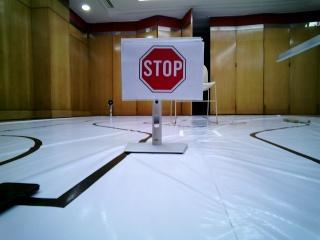stop: (122, 39, 200, 98)
